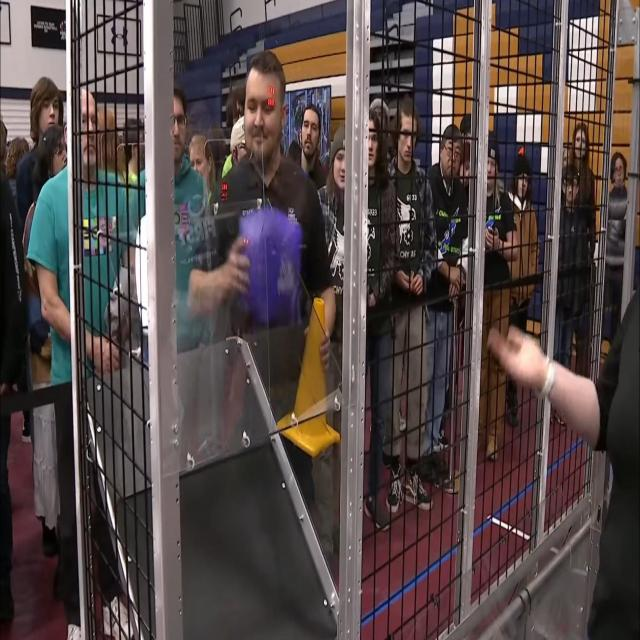frc_cone: (277, 293, 341, 456)
frc_cube: (239, 212, 301, 324)
